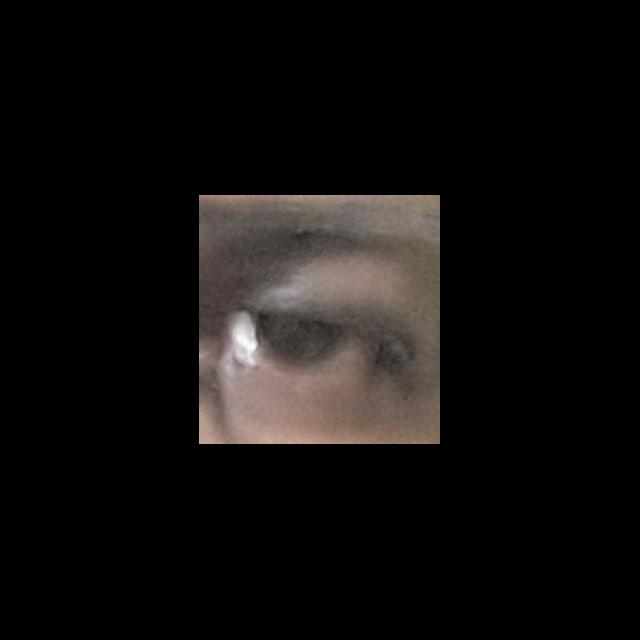eye: (255, 312, 352, 373)
iris: (270, 316, 338, 369)
